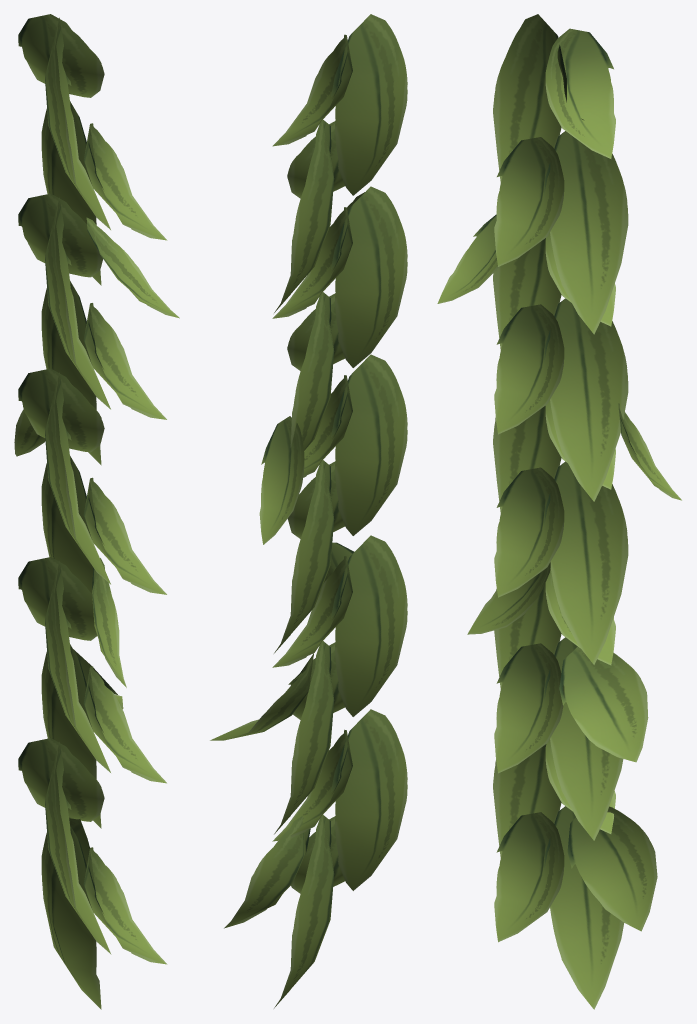
File: SM_Folliage004.fbx
3 views of the same model, side by side, from view 1: azimuth 30°, elevation 25°; view 2: azimuth 150°, elevation 25°; view 3: azimuth 270°, elevation 25° (orthographic). The views are drawn at different scales.
Parts seen in each view (by area): view 1: NurbsPath.011; view 2: NurbsPath.011; view 3: NurbsPath.011.
Part boxes in pixels (x1,y1,x2,y2): NurbsPath.011: (14,14,179,1009); NurbsPath.011: (210,14,407,1008); NurbsPath.011: (437,14,681,1009).
Bounding box in the file's own units: 0.6215 × 4.63 × 1.07.
